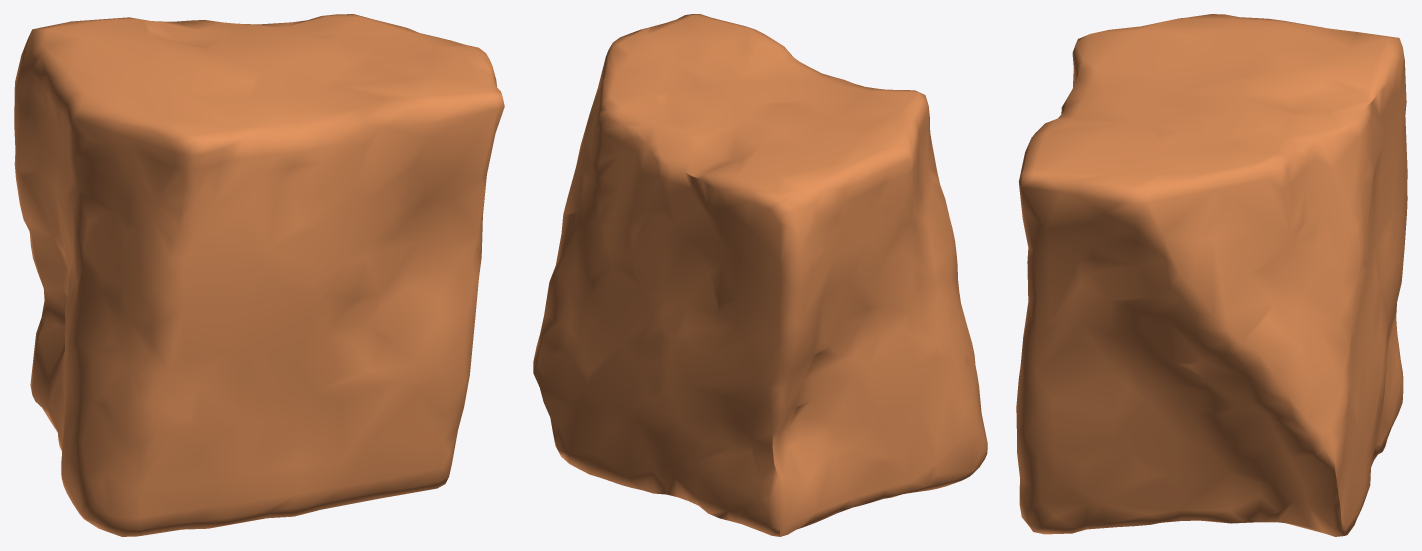
Rendered from rock0.obj.
3 renders of one model, left to right at view 1: azimuth 30°, elevation 25°; view 2: azimuth 150°, elevation 25°; view 3: azimuth 270°, elevation 25°, orthographic. The views are drawn at different scales.
Parts seen in each view (by area): view 1: Object002; view 2: Object002; view 3: Object002.
Boxes of the visible parts, bbox=[...] form: Object002: bbox=[14, 14, 504, 536]; Object002: bbox=[533, 14, 987, 536]; Object002: bbox=[1016, 14, 1407, 536].
Bounding box in the file's own units: 137 × 128 × 114.
